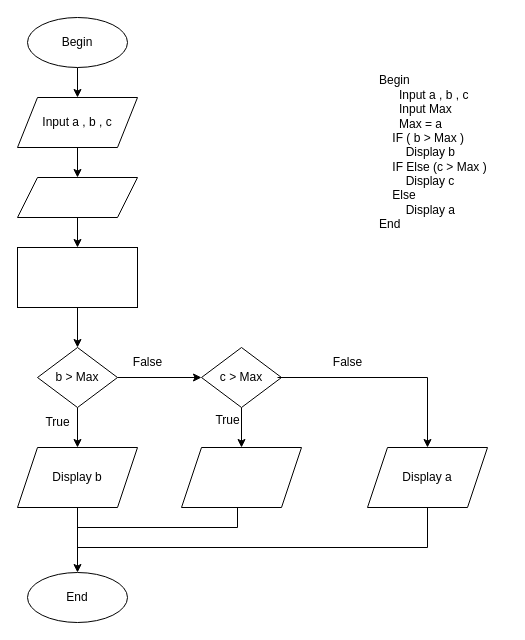
Some shapes in this 525 by 640 pixel diagram are drawn without their labels. The shapes that lost their labels are listed below. From the top down, each one's box as (x1, y1, x2, y2) in pixels, then its label:
(16, 176, 138, 218): Input Max
(16, 246, 138, 308): Max = a
(180, 446, 302, 508): Display c
